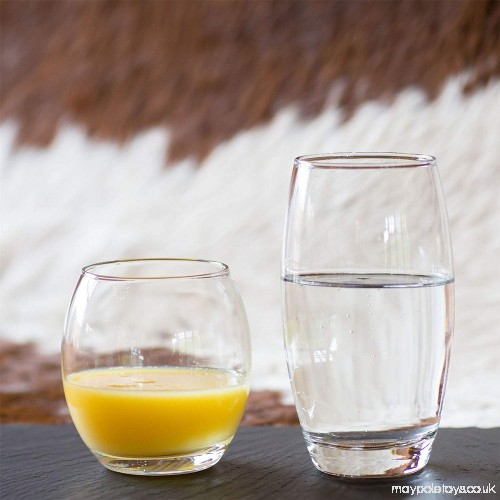glass of water: (285, 158, 450, 476)
